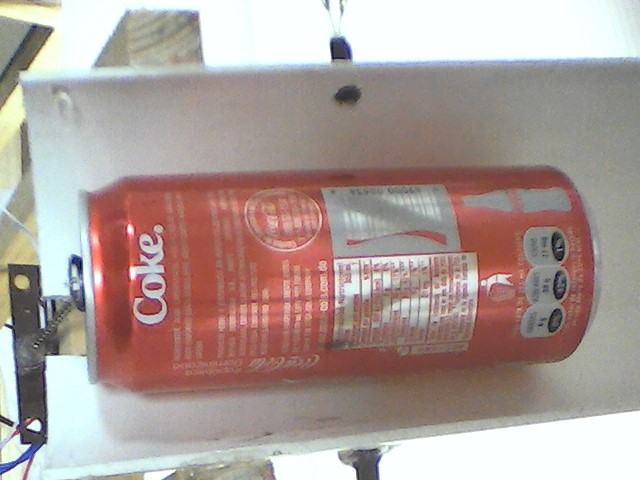lata: (66, 162, 610, 400)
